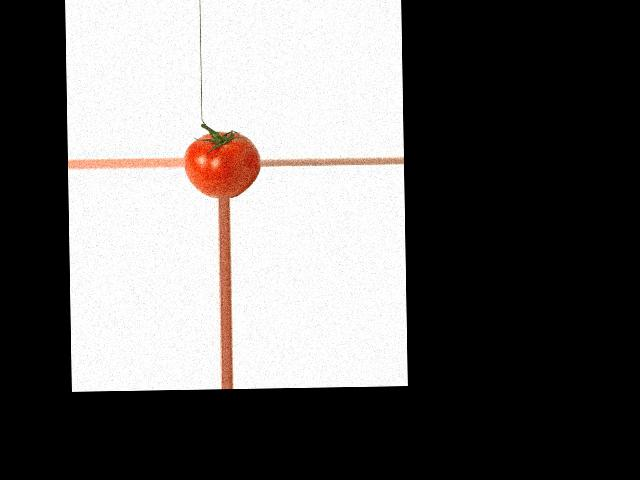tomato: (183, 130, 261, 198)
